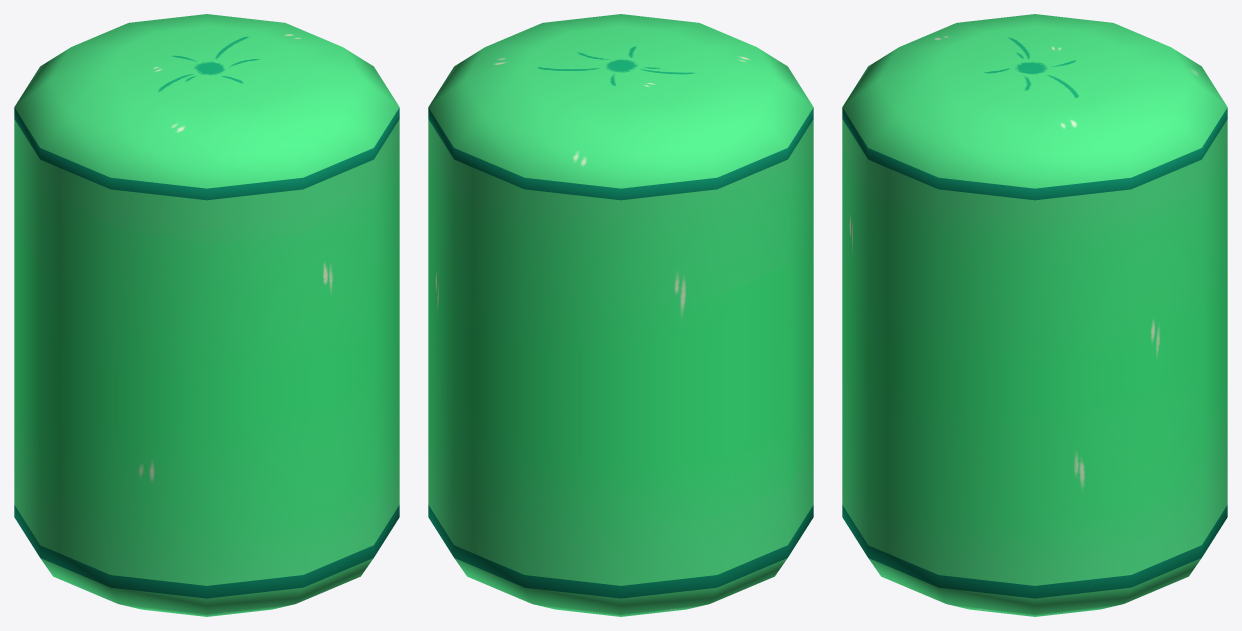
Rendered from pillowtube.fbx.
3 views of the same model, side by side, from view 1: azimuth 30°, elevation 25°; view 2: azimuth 150°, elevation 25°; view 3: azimuth 270°, elevation 25° (orthographic).
Parts seen in each view (by area): view 1: Cylinder; view 2: Cylinder; view 3: Cylinder.
Boxes of the visible parts, <box> form: Cylinder: <box>14,14,399,616</box>; Cylinder: <box>428,14,813,616</box>; Cylinder: <box>842,14,1227,616</box>.
Bounding box in the file's own units: 200 × 283 × 200.
